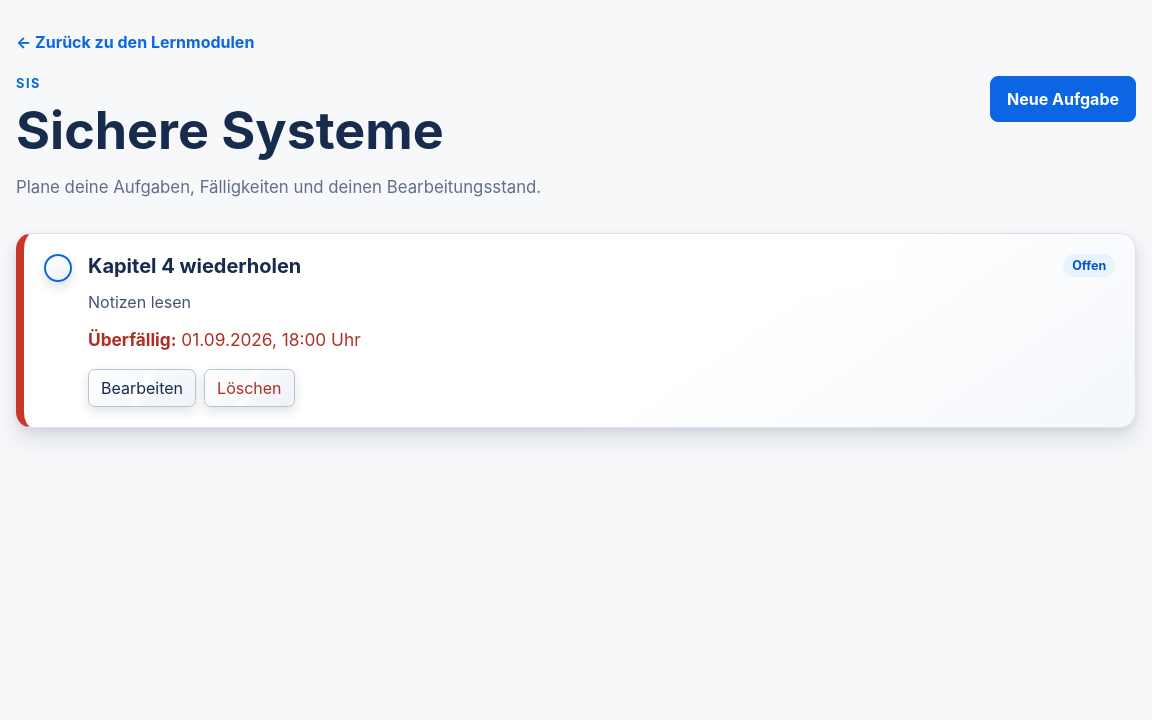
Test case: StudyTasksView › deletes a confirmed task
Click the button with class "delete-task-button": click(249, 388) [204,370,295,408]
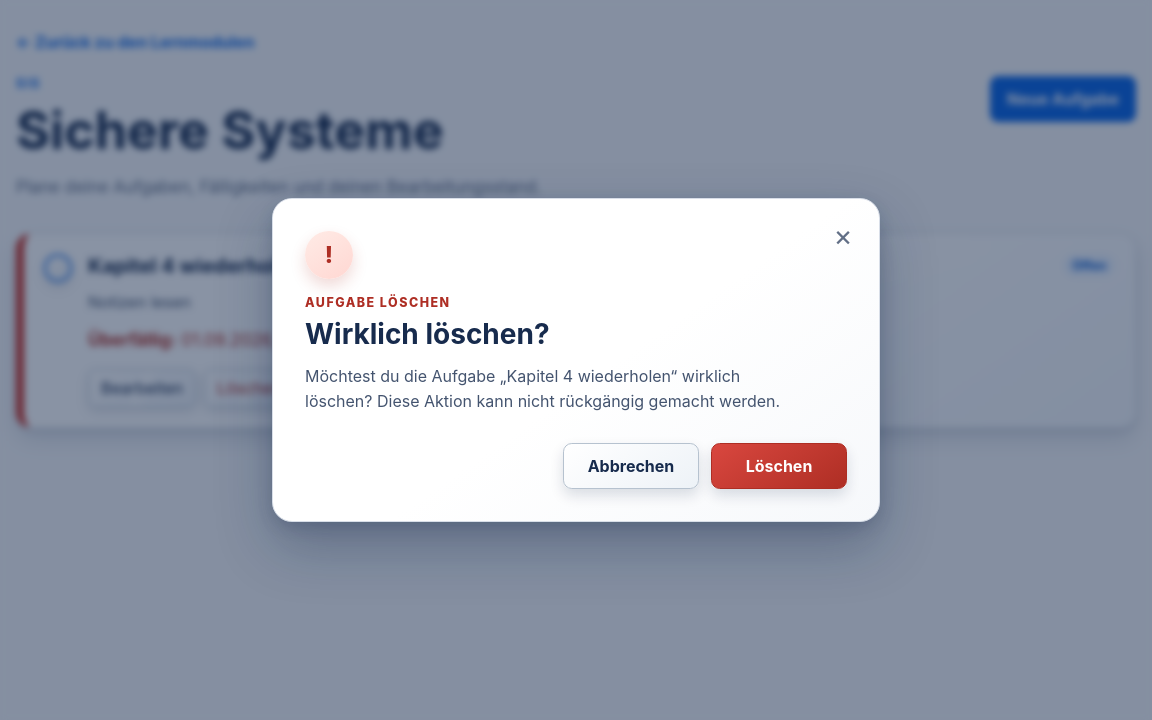
Result: the dialog shows "Kapitel 4 wiederholen" at [305,366,780,411]
Click the button with class "confirm-delete-button": click(779, 466) [711,443,847,489]
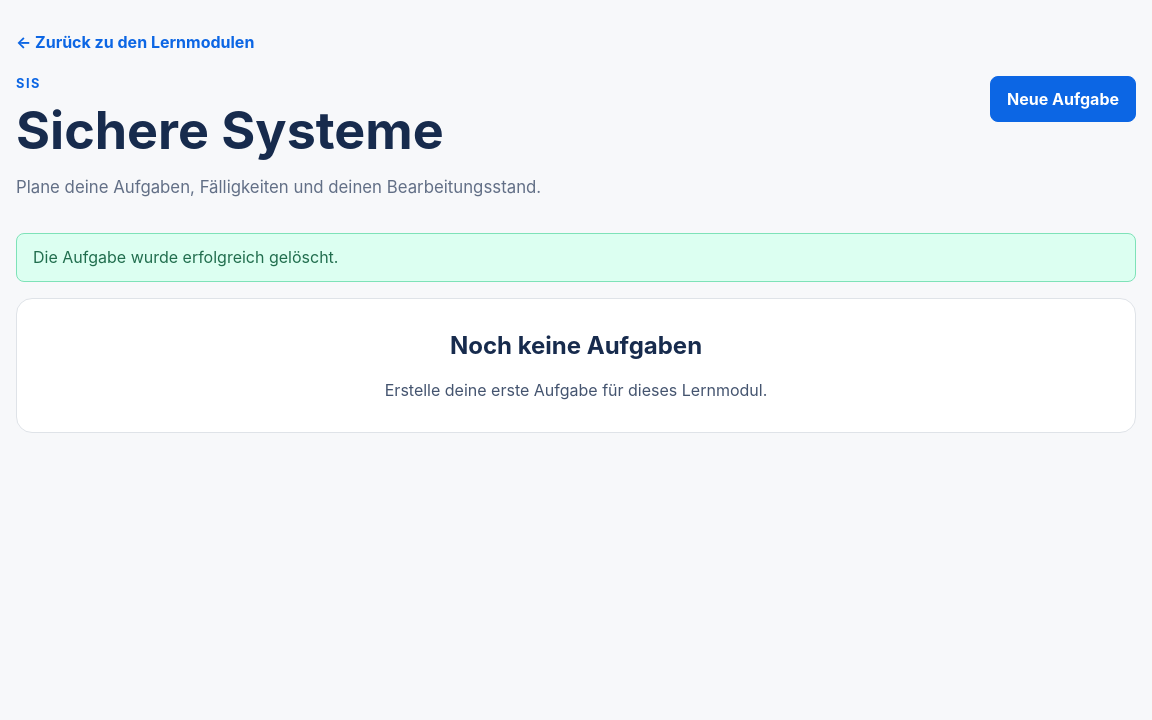
Result: the text "erfolgreich gelöscht" is shown at [33,248,338,268]
